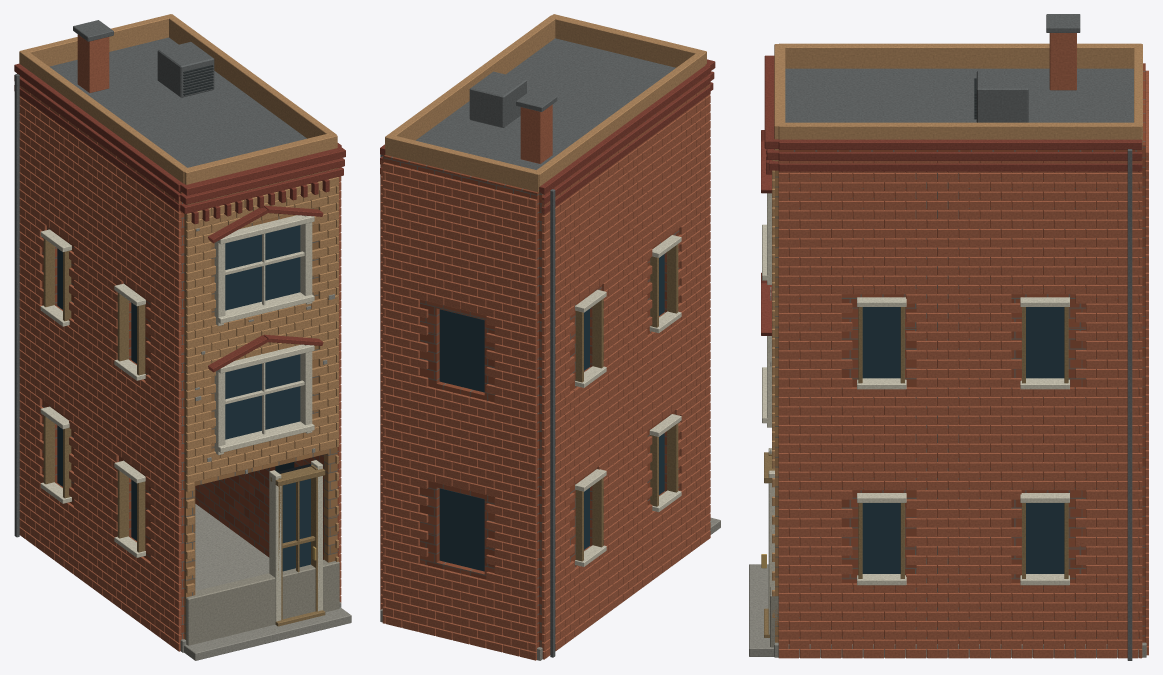
Rendered from VICT1A_lod0.glb.
3 views of the same model, side by side, from view 1: azimuth 30°, elevation 25°; view 2: azimuth 150°, elevation 25°; view 3: azimuth 270°, elevation 25° (orthographic). The views are drawn at different scales.
Parts seen in each view (by area): view 1: VICT1A_LOD0; view 2: VICT1A_LOD0; view 3: VICT1A_LOD0.
Part boxes in pixels (x1,y1,x2,y2): VICT1A_LOD0: [14, 14, 351, 660]; VICT1A_LOD0: [380, 14, 720, 660]; VICT1A_LOD0: [749, 14, 1148, 660].
Size of the model in its own units: 3.71 by 10.45 by 6.6.
18 materials, 15 textured.
